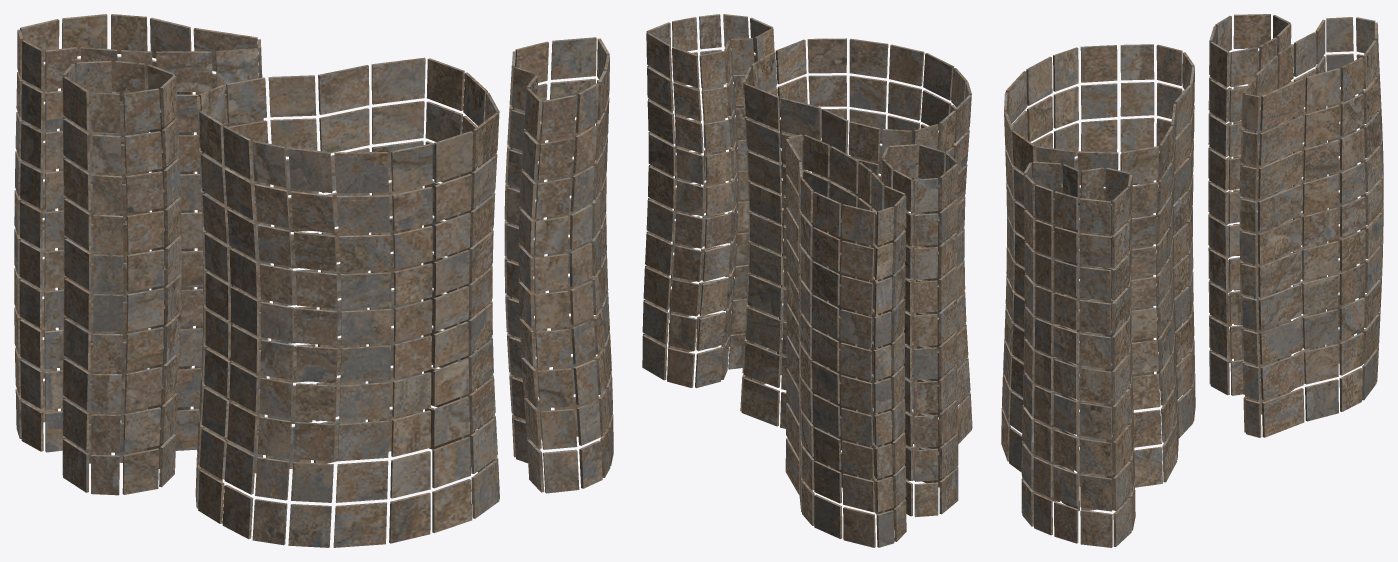
The picture shows the model from 3 angles, left to right: view 1: azimuth 30°, elevation 25°; view 2: azimuth 150°, elevation 25°; view 3: azimuth 270°, elevation 25°; orthographic projection. The views are drawn at different scales.
Parts seen in each view (by area): view 1: G_Baked; view 2: G_Baked; view 3: G_Baked.
Part boxes in pixels (left/top/right/bottom): G_Baked: left=14, top=14, right=613, bottom=547; G_Baked: left=642, top=14, right=972, bottom=547; G_Baked: left=1001, top=14, right=1383, bottom=547.
Bounding box in the file's own units: 657 × 561 × 563.
1 material, 1 textured.
